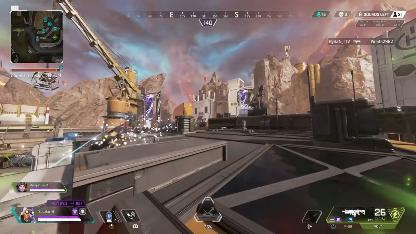Target: (92, 110, 134, 152)
